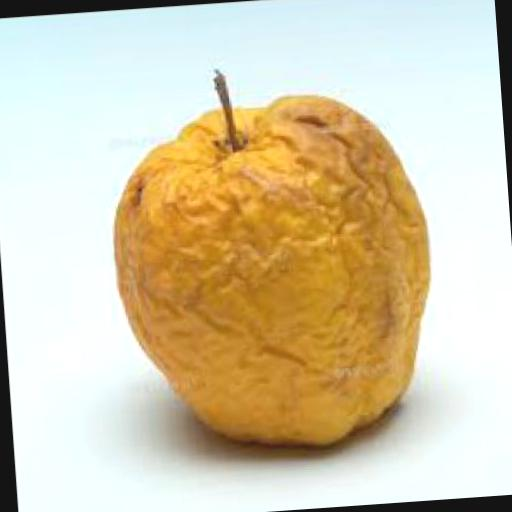biodegradable: (96, 50, 438, 460)
